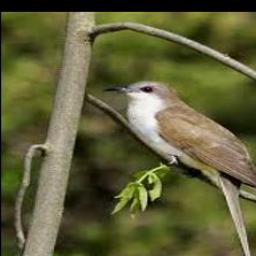Cuckoo: (102, 81, 256, 198)
